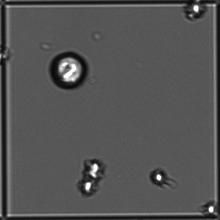Living Cell: (48, 49, 90, 88), (182, 2, 209, 22), (149, 167, 170, 187), (82, 160, 103, 175), (80, 178, 95, 194), (202, 201, 217, 216)
